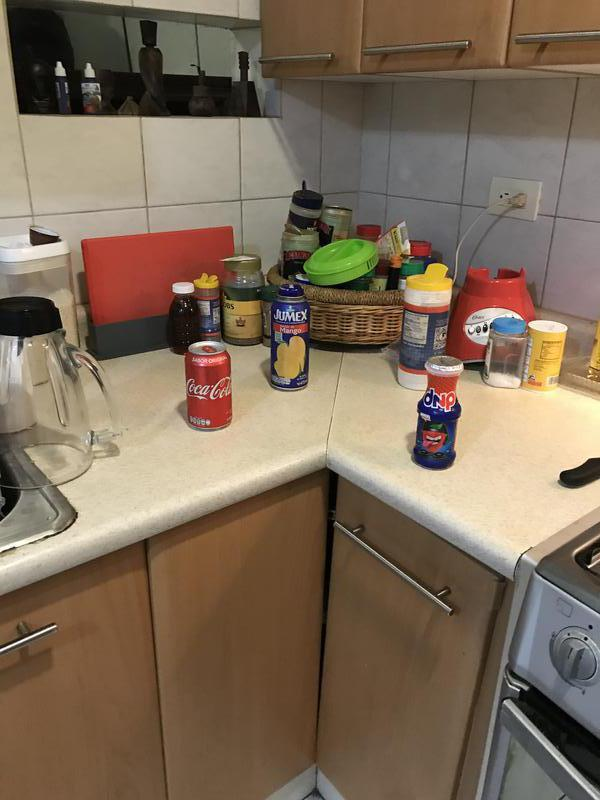coca_cola: (185, 340, 235, 429)
danup: (416, 357, 459, 475)
jugo_jumex: (270, 287, 311, 390)
